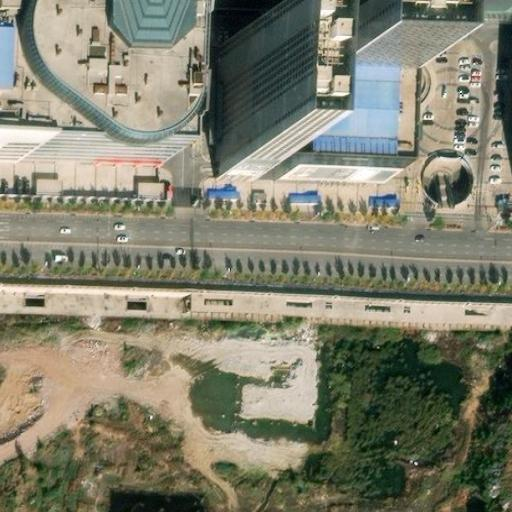building: (254, 59, 392, 210), (212, 59, 257, 202), (297, 60, 382, 109)
